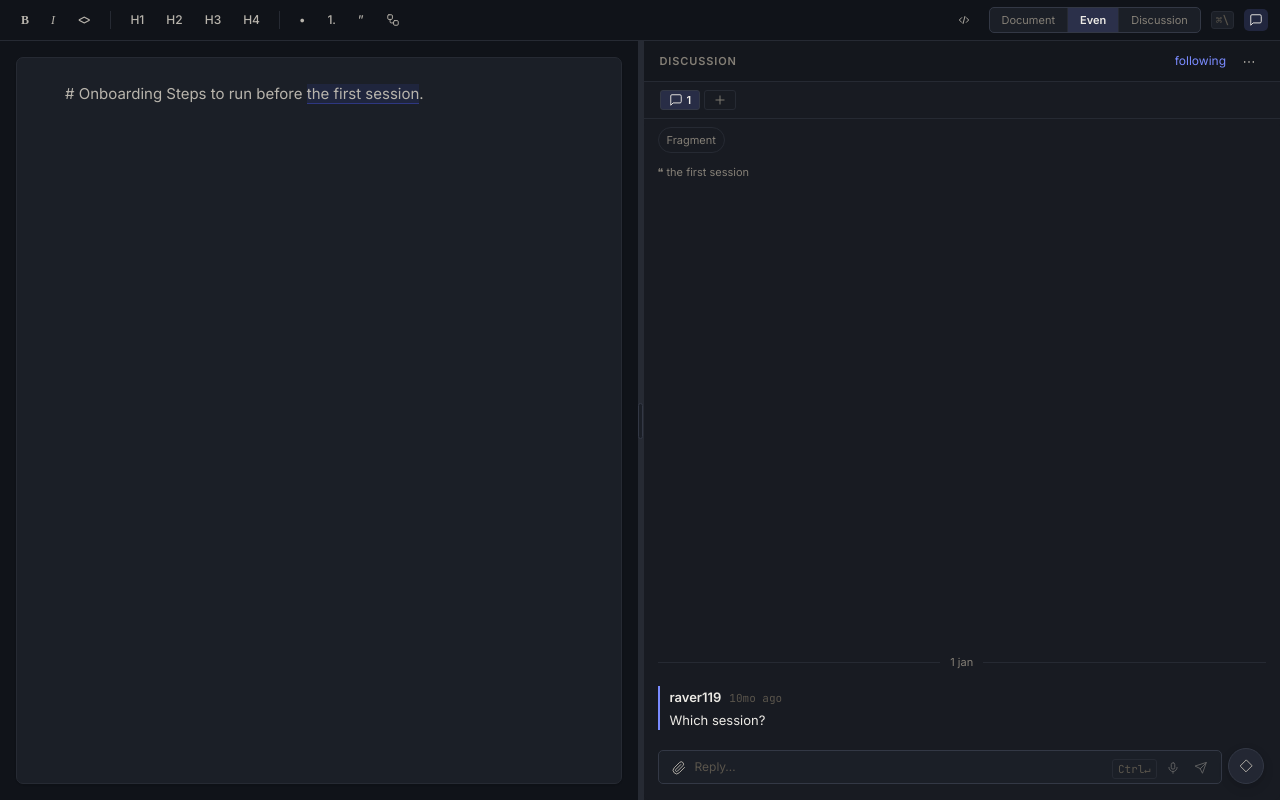
Test: CTA-FR-VQFJ: the composer offers the project's agents › completes an agent with Tab, where the composer has real neighbours
Expected: the element named "artifact body" is shown, left=65, top=84, right=424, bottom=104
Type "Ask @ar" into the text box named "Reply to thread t1" at {"x": 901, "y": 767}, box left=694, top=755, right=1108, bottom=779
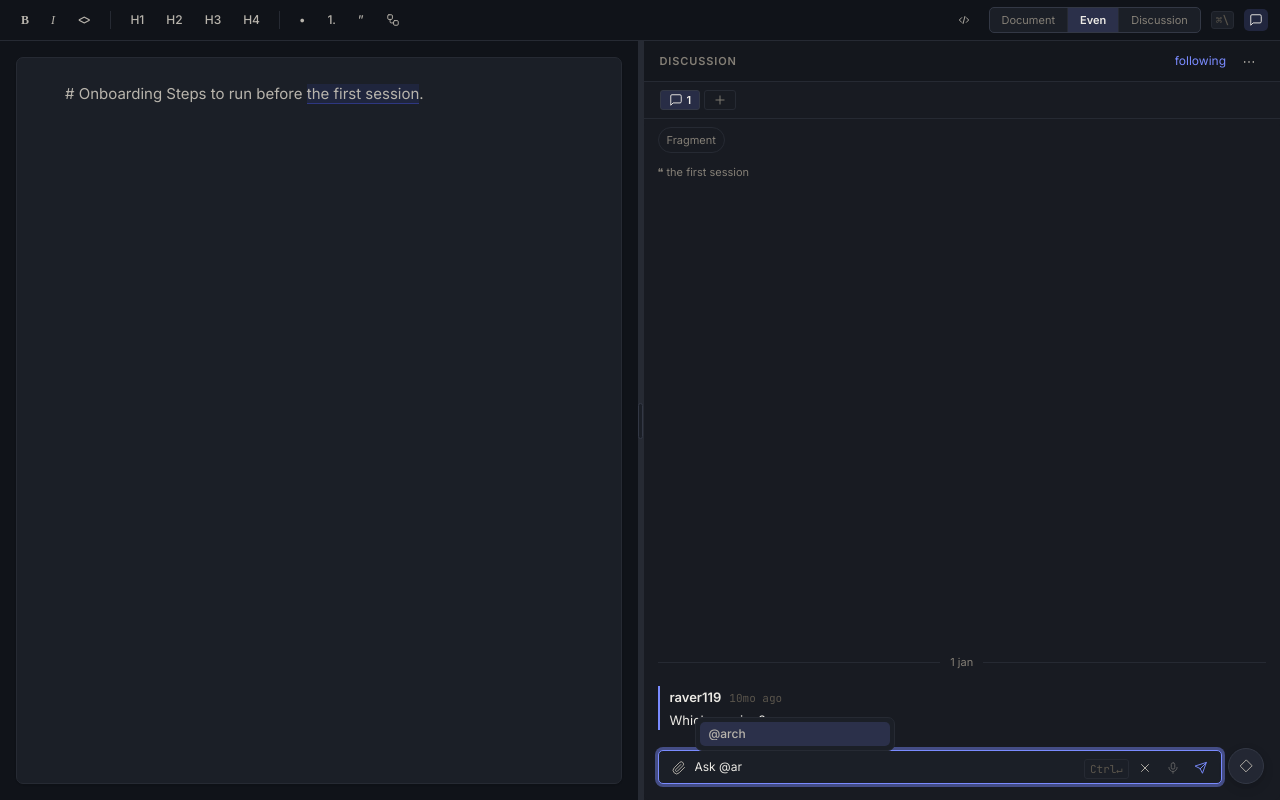
Now the list with test id "mention-picker" is shown, box left=694, top=717, right=894, bottom=751
Press Tab
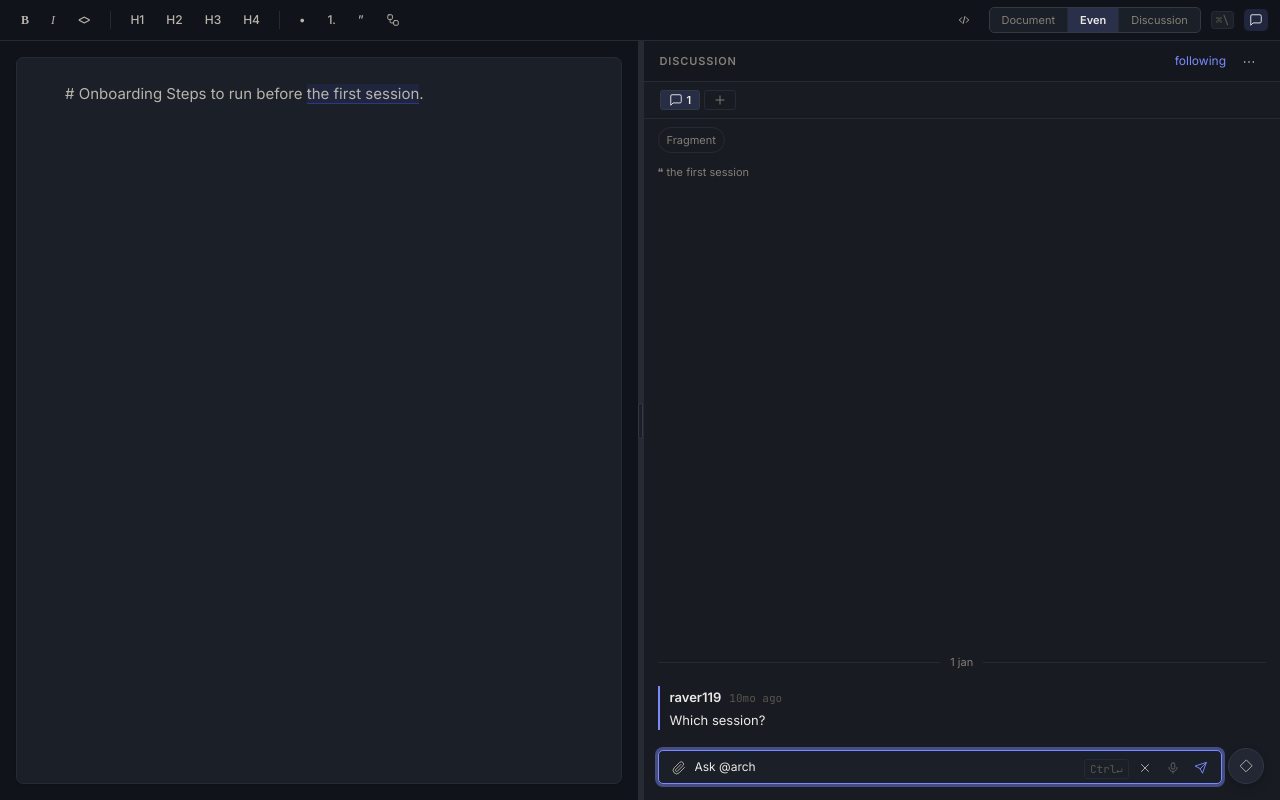
Now the text box named "Reply to thread t1" holds "Ask @arch ", box left=694, top=755, right=1080, bottom=779
Now the list with test id "mention-picker" is gone
